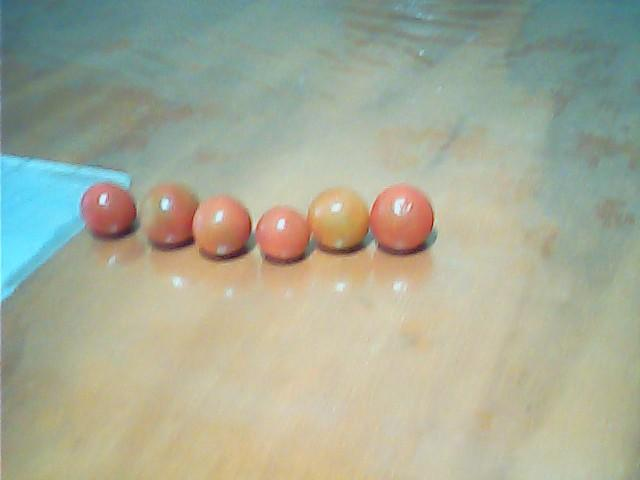maduro: (372, 184, 433, 252), (80, 183, 136, 238), (256, 206, 307, 259)
verde: (310, 187, 368, 248), (194, 195, 251, 256), (140, 186, 198, 245)
